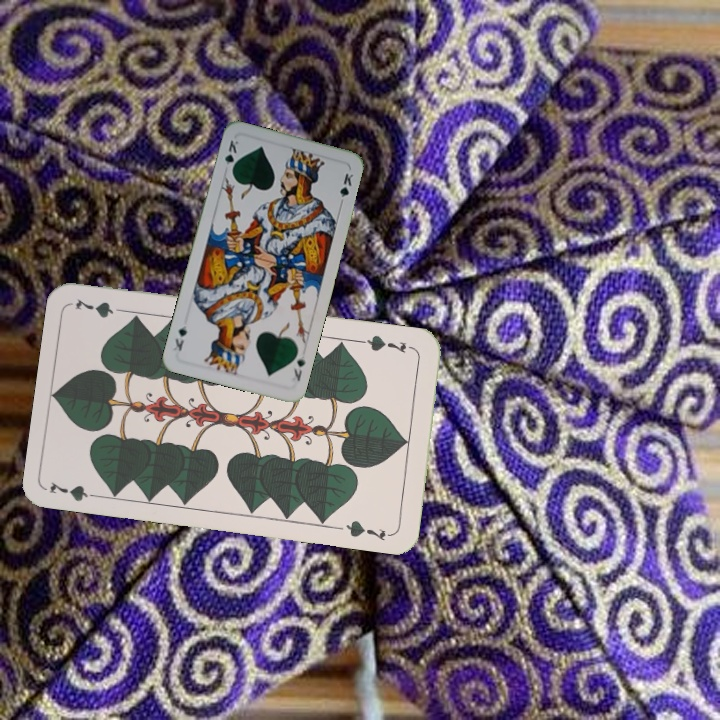G7: (46, 478, 105, 504), (358, 331, 409, 356)
GK: (220, 136, 242, 176), (289, 352, 308, 384)
